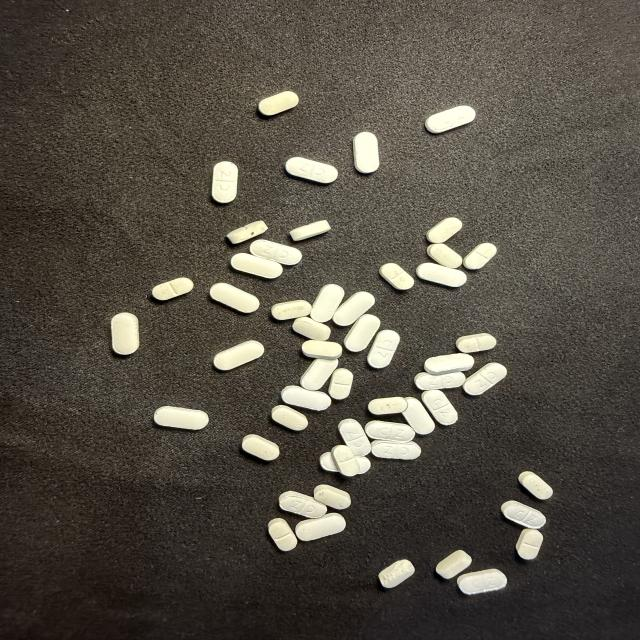pill: (210, 283, 259, 313), (214, 341, 264, 370), (333, 292, 375, 326), (463, 363, 507, 395), (296, 513, 345, 541), (344, 314, 380, 352), (231, 253, 282, 279), (286, 157, 337, 183), (426, 106, 475, 133), (154, 406, 209, 430), (250, 240, 302, 265), (279, 491, 326, 518), (501, 501, 546, 529), (311, 284, 344, 322), (457, 569, 507, 594), (422, 390, 457, 425), (281, 386, 331, 410), (339, 419, 371, 456), (300, 359, 338, 390), (368, 330, 399, 368), (417, 263, 466, 287), (111, 313, 139, 355), (403, 397, 434, 434), (212, 161, 238, 203), (365, 421, 415, 442), (436, 550, 472, 579), (425, 354, 474, 375), (258, 91, 299, 116), (354, 132, 379, 173), (226, 220, 268, 244), (379, 560, 415, 588), (268, 518, 298, 551), (372, 440, 421, 459), (242, 435, 279, 460), (271, 405, 308, 430), (519, 471, 552, 499), (380, 263, 414, 290), (427, 217, 462, 243), (152, 278, 193, 300), (415, 372, 465, 390), (314, 485, 351, 509), (463, 243, 496, 269), (293, 317, 330, 340), (290, 220, 330, 241), (427, 244, 462, 268), (332, 445, 359, 476), (516, 529, 543, 559), (271, 300, 311, 320), (456, 333, 496, 353), (302, 340, 342, 359), (329, 368, 353, 399), (368, 397, 407, 414), (320, 452, 338, 472), (356, 456, 370, 474)
